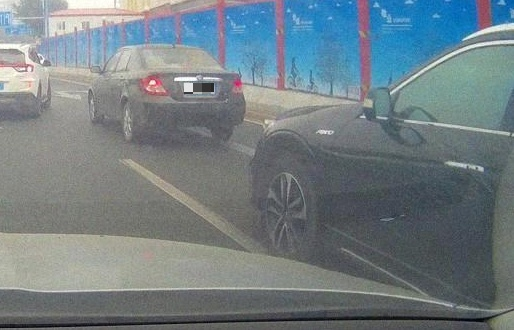L_light: (140, 76, 168, 96)
R_light: (228, 77, 242, 94)
T_light: (167, 48, 182, 52)
day-brake: (136, 44, 246, 144)
plate_1: (184, 83, 214, 94)
